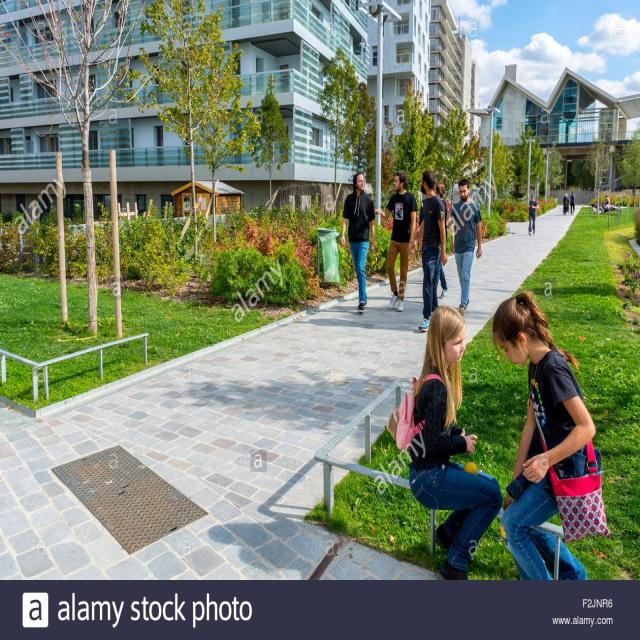body: (490, 290, 611, 582), (386, 302, 504, 580), (192, 495, 416, 579), (292, 270, 460, 330), (407, 170, 450, 333), (372, 167, 420, 313), (338, 169, 377, 317), (448, 177, 484, 318), (434, 180, 451, 300), (526, 192, 540, 237), (561, 192, 570, 218), (540, 210, 562, 220), (569, 191, 576, 216), (592, 203, 604, 214), (511, 233, 527, 238), (605, 194, 611, 204)
